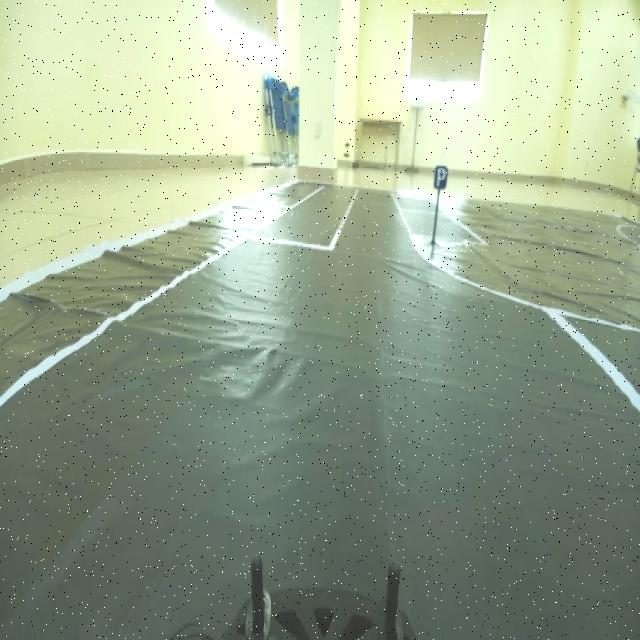parking: (427, 161, 455, 205)
